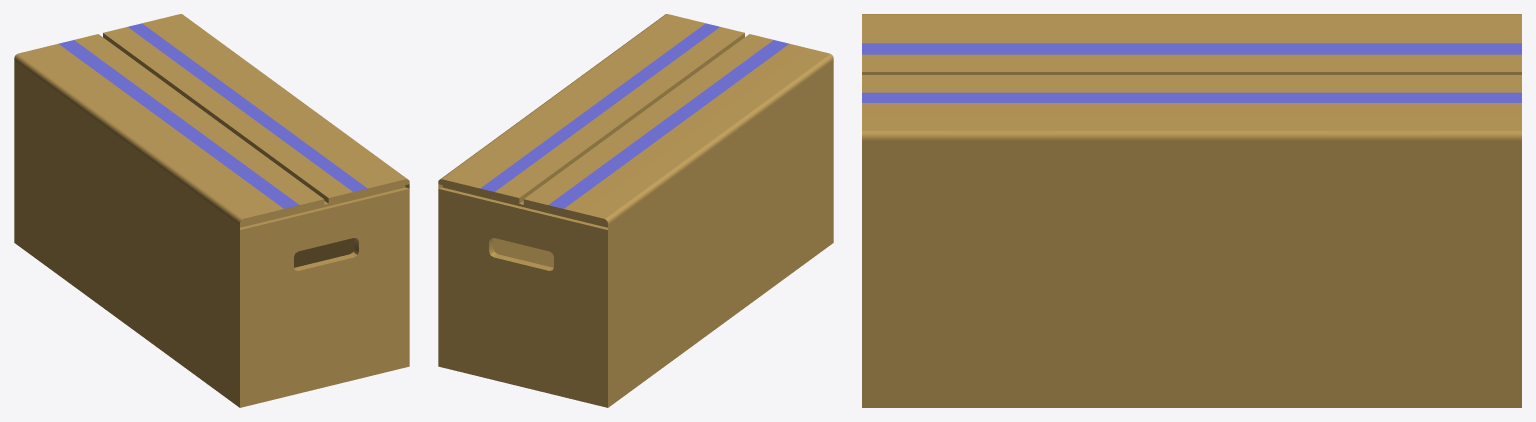
The model's file is StripedBox.fbx.
The picture shows the model from 3 angles, left to right: view 1: azimuth 30°, elevation 25°; view 2: azimuth 150°, elevation 25°; view 3: azimuth 270°, elevation 25°; orthographic projection. The views are drawn at different scales.
Parts seen in each view (by area): view 1: pCube1; view 2: pCube1; view 3: pCube1.
Boxes of the visible parts, box(x1,y1,x2,y2) form: pCube1: box(14, 14, 409, 407); pCube1: box(438, 14, 833, 407); pCube1: box(862, 14, 1521, 407).
Size of the model in its own units: 29.94 by 31.7 by 68.91.
